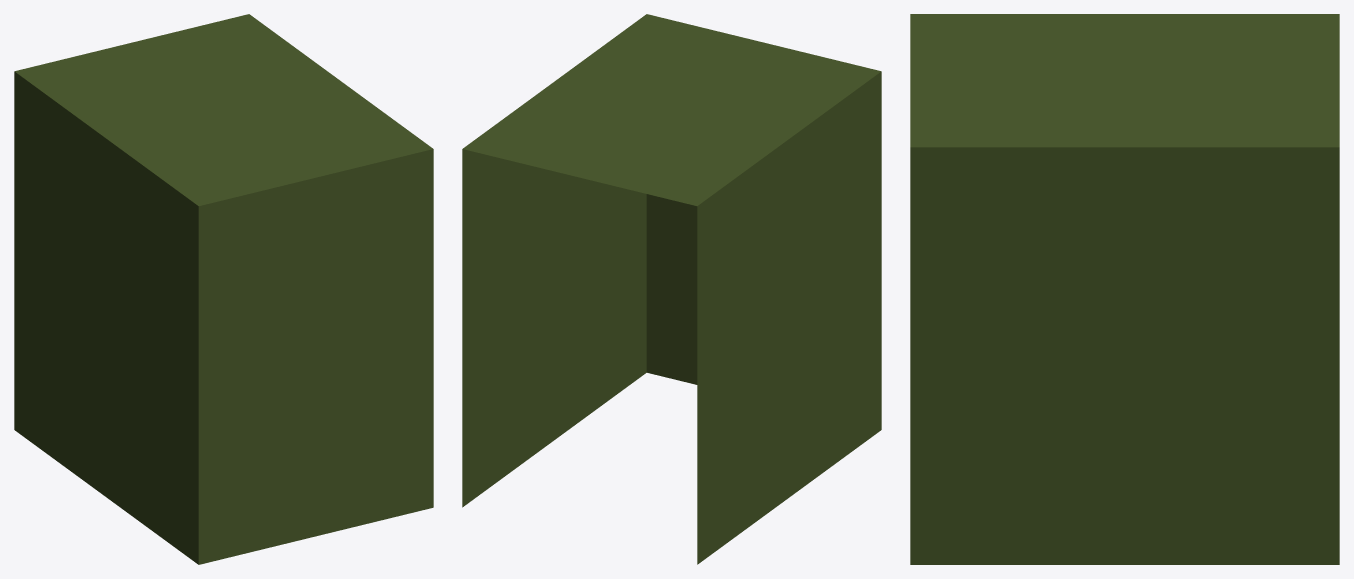
File: Build_5.FBX
3 renders of one model, left to right at view 1: azimuth 30°, elevation 25°; view 2: azimuth 150°, elevation 25°; view 3: azimuth 270°, elevation 25°, orthographic. The views are drawn at different scales.
Visible parts, largest first — view 1: Building_05; view 2: Building_05; view 3: Building_05.
Boxes of the visible parts, <box> form: Building_05: <box>14,14,433,564</box>; Building_05: <box>462,14,881,564</box>; Building_05: <box>910,14,1339,564</box>.
Bounding box in the file's own units: 823 × 1202 × 1120.
